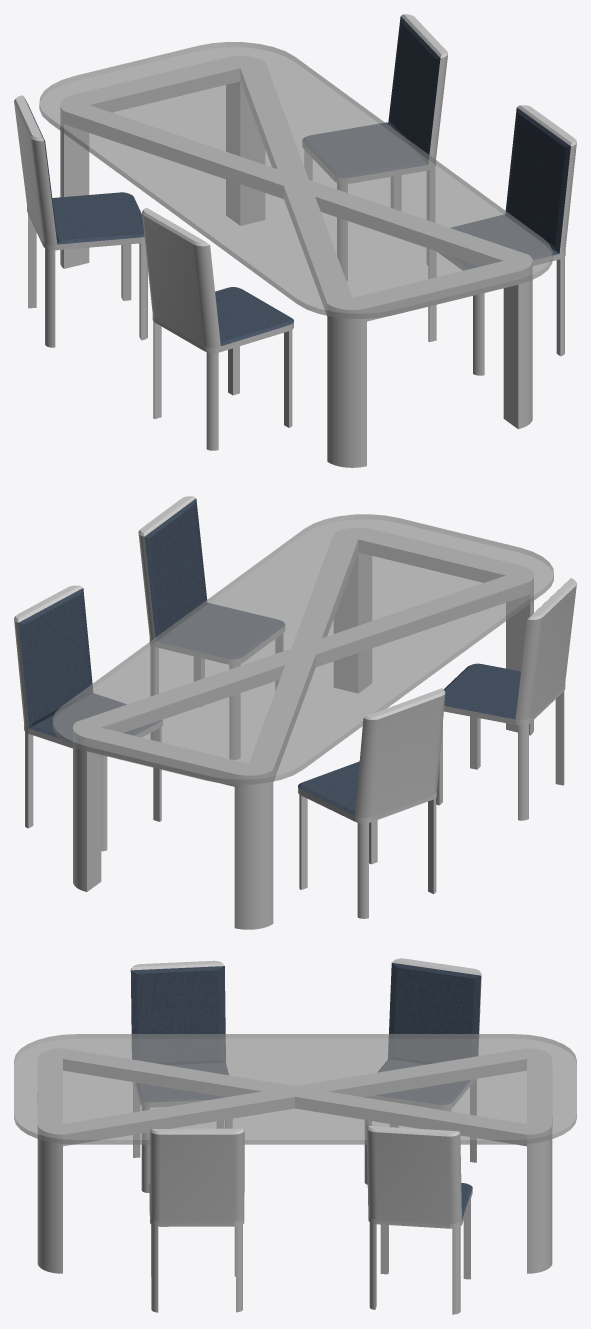
The model's file is OfficeTable.FBX.
The picture shows the model from 3 angles, top to bottom: view 1: azimuth 30°, elevation 25°; view 2: azimuth 150°, elevation 25°; view 3: azimuth 270°, elevation 25°; orthographic projection. The views are drawn at different scales.
Visible parts, largest first — view 1: top, legs, chair1, chair3, chair4, chair2; view 2: top, legs, chair2, chair4, chair3, chair1; view 3: top, legs, chair1, chair3, chair2, chair4.
Part boxes in pixels (box(x1,y1,x2,y2)): top: box(39, 42, 552, 318); legs: box(60, 56, 532, 467); chair1: box(142, 207, 293, 450); chair3: box(302, 14, 447, 280); chair4: box(428, 105, 576, 375); chair2: box(14, 95, 147, 347); top: box(52, 514, 553, 784); legs: box(73, 527, 533, 929); chair2: box(298, 688, 445, 918); chair4: box(138, 496, 284, 759); chair3: box(14, 585, 162, 851); chair1: box(436, 578, 576, 820); top: box(14, 1034, 576, 1144); legs: box(37, 1048, 552, 1273); chair1: box(130, 960, 232, 1192); chair3: box(366, 1126, 472, 1314); chair2: box(364, 958, 481, 1184); chair4: box(149, 1128, 244, 1312).
Size of the model in its own units: 541 by 265 by 728.
